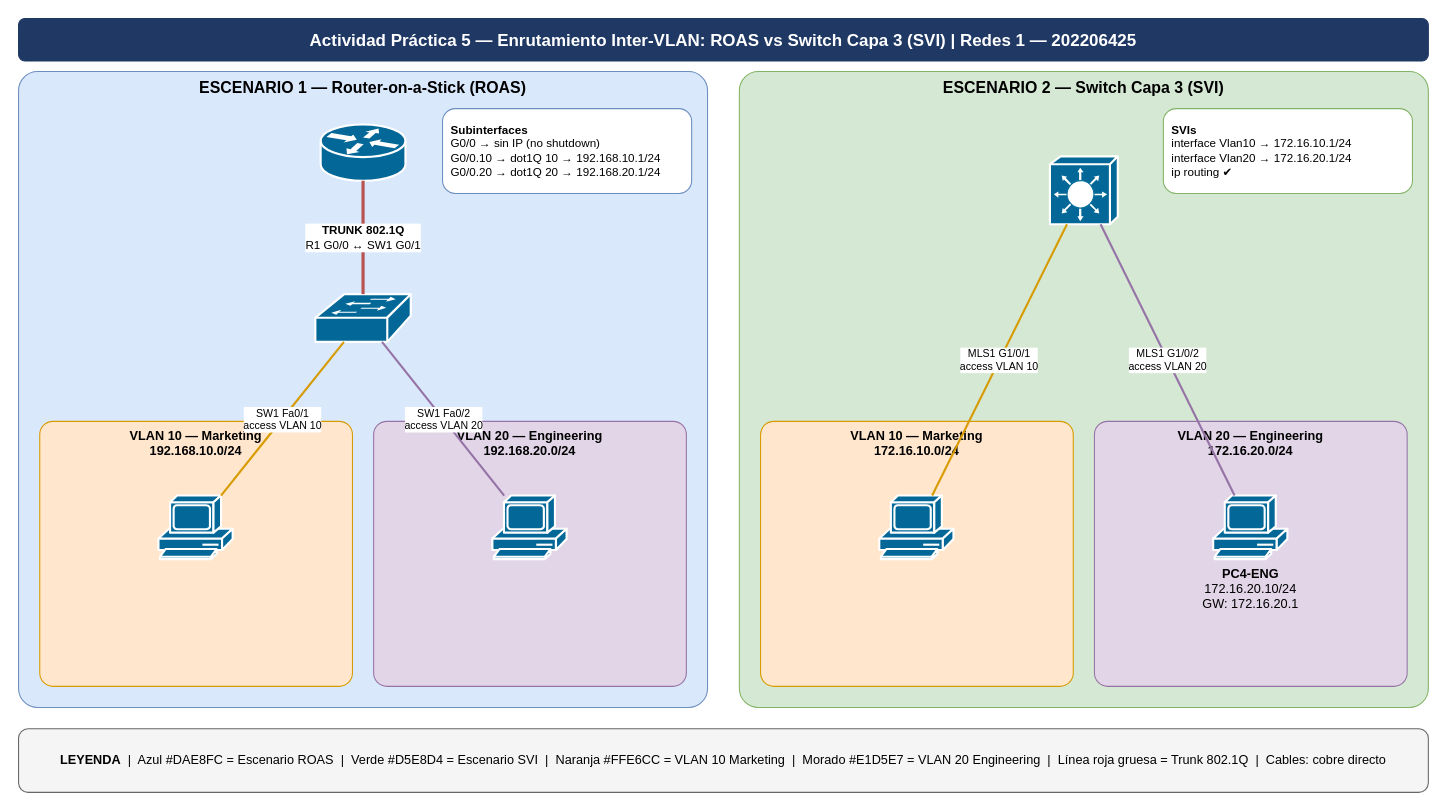
The diagram is 1447 pixels wide and 811 high, and some of its shapes have lost their labels. Each missing label, with the centre of its shape:
"MLS1-L3 Cisco 3650-24PS ip routing" goes at (x=1083, y=190).
"PC1-MKT 192.168.10.10/24 GW: 192.168.10.1" goes at (x=195, y=527).
"PC2-ENG 192.168.20.10/24 GW: 192.168.20.1" goes at (x=529, y=527).
"PC3-MKT 172.16.10.10/24 GW: 172.16.10.1" goes at (x=916, y=527).
"R1-ROAS Cisco 2911" goes at (x=362, y=152).
"SW1-L2 Cisco 2960" goes at (x=362, y=317).
